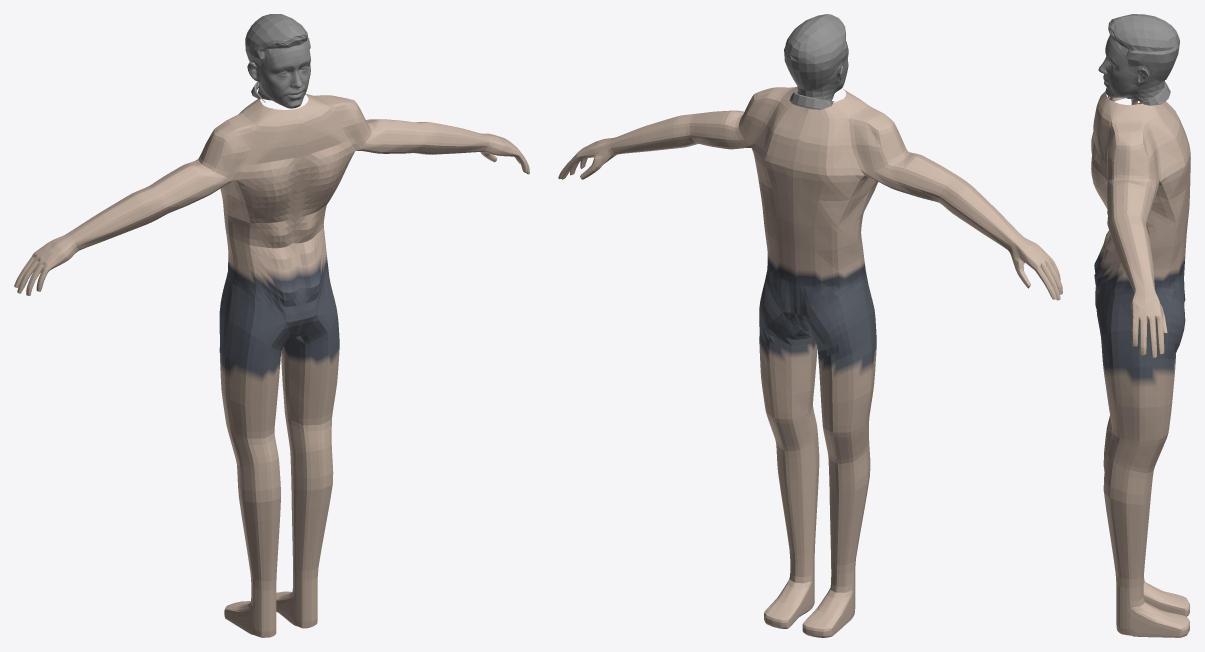
File: canonical_male.glb
3 renders of one model, left to right at view 1: azimuth 30°, elevation 25°; view 2: azimuth 150°, elevation 25°; view 3: azimuth 270°, elevation 25°, orthographic. The views are drawn at different scales.
Visible parts, largest first — view 1: geometry_0; view 2: geometry_0; view 3: geometry_0.
Part boxes in pixels (<box>): geometry_0: <box>14,14,529,637</box>; geometry_0: <box>558,14,1062,637</box>; geometry_0: <box>1091,14,1190,637</box>.
Size of the model in its own units: 158 by 180 by 26.88.
